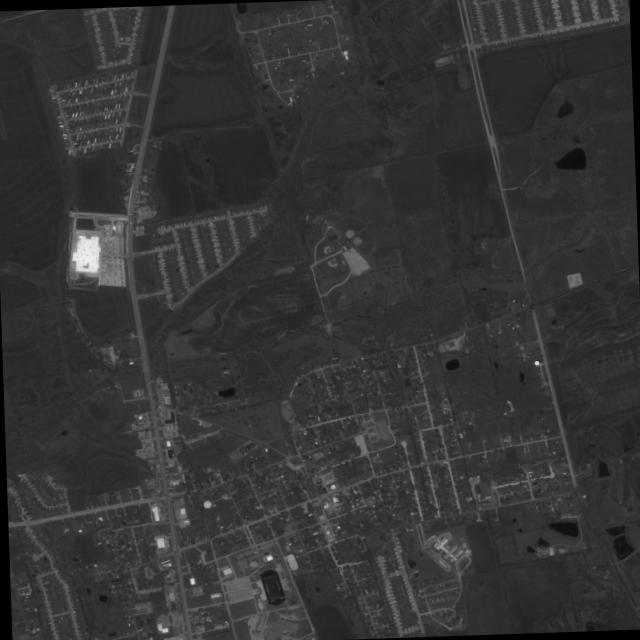storage-tank: (533, 360, 539, 366)
